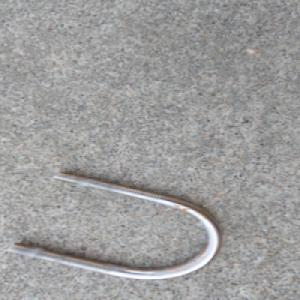ClampPart: (7, 169, 225, 281)
